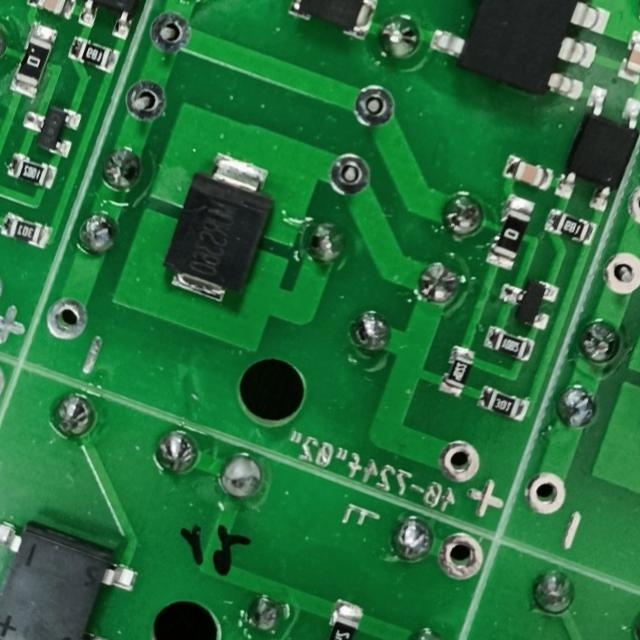chip-capacitor: (497, 151, 555, 193), (613, 27, 640, 86), (21, 0, 77, 21)
chip-resistor: (3, 18, 61, 102), (481, 190, 536, 274), (60, 33, 121, 78), (538, 204, 598, 249), (471, 381, 531, 425), (432, 340, 476, 400), (308, 596, 366, 640), (0, 150, 59, 193), (477, 323, 536, 365), (0, 210, 53, 253)
diode: (151, 143, 285, 311), (282, 0, 380, 44)
ic: (422, 0, 626, 112), (0, 503, 145, 640), (548, 81, 640, 218)
transistor: (488, 264, 561, 333), (12, 93, 84, 160)
